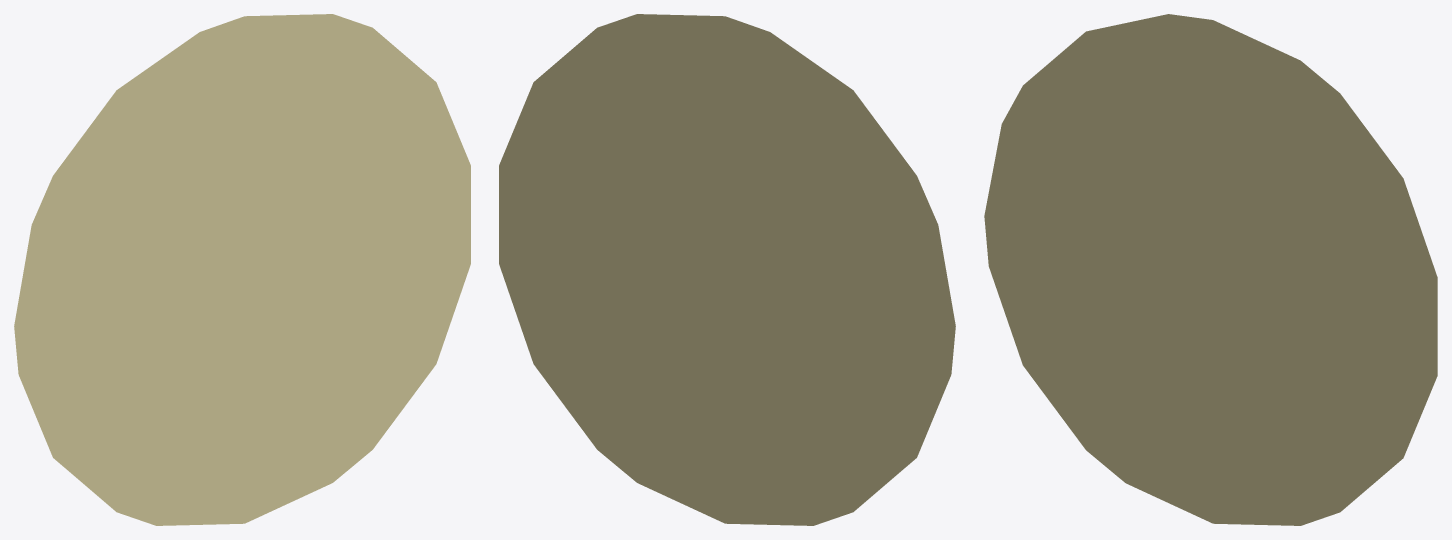
Rendered from kick.gltf.
3 views of the same model, side by side, from view 1: azimuth 30°, elevation 25°; view 2: azimuth 150°, elevation 25°; view 3: azimuth 330°, elevation 25° (orthographic).
Parts seen in each view (by area): view 1: KickSurface; view 2: KickSurface; view 3: KickSurface.
Boxes of the visible parts, bbox=[...] form: KickSurface: bbox=[14, 14, 470, 525]; KickSurface: bbox=[499, 14, 955, 525]; KickSurface: bbox=[984, 14, 1437, 525].
Size of the model in its own units: 4.26 by 4.53 by 3.82e-07.
1 material, 1 textured.
